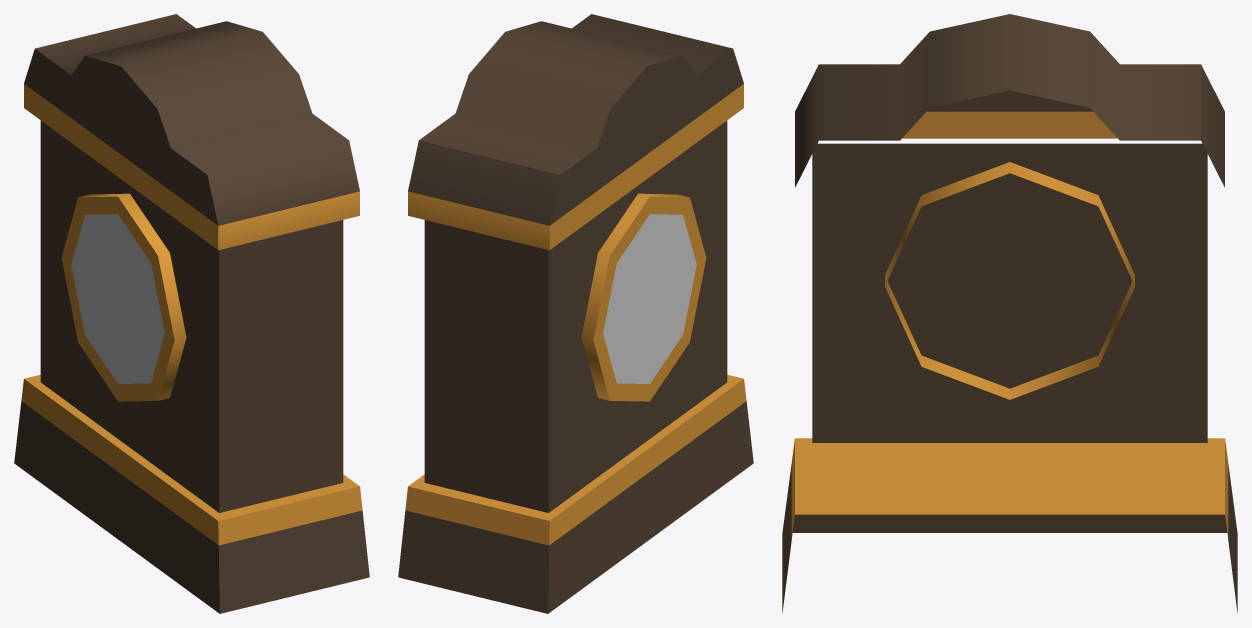
The model's file is interior_A_011.fbx.
3 views of the same model, side by side, from view 1: azimuth 30°, elevation 25°; view 2: azimuth 150°, elevation 25°; view 3: azimuth 270°, elevation 25° (orthographic). The views are drawn at different scales.
Visible parts, largest first — view 1: interior_A_011; view 2: interior_A_011; view 3: interior_A_011.
Part boxes in pixels (x1,y1,x2,y2): interior_A_011: (14, 14, 369, 613); interior_A_011: (398, 14, 753, 613); interior_A_011: (782, 14, 1237, 613).
Size of the model in its own units: 9.62 by 28.9 by 22.87.
